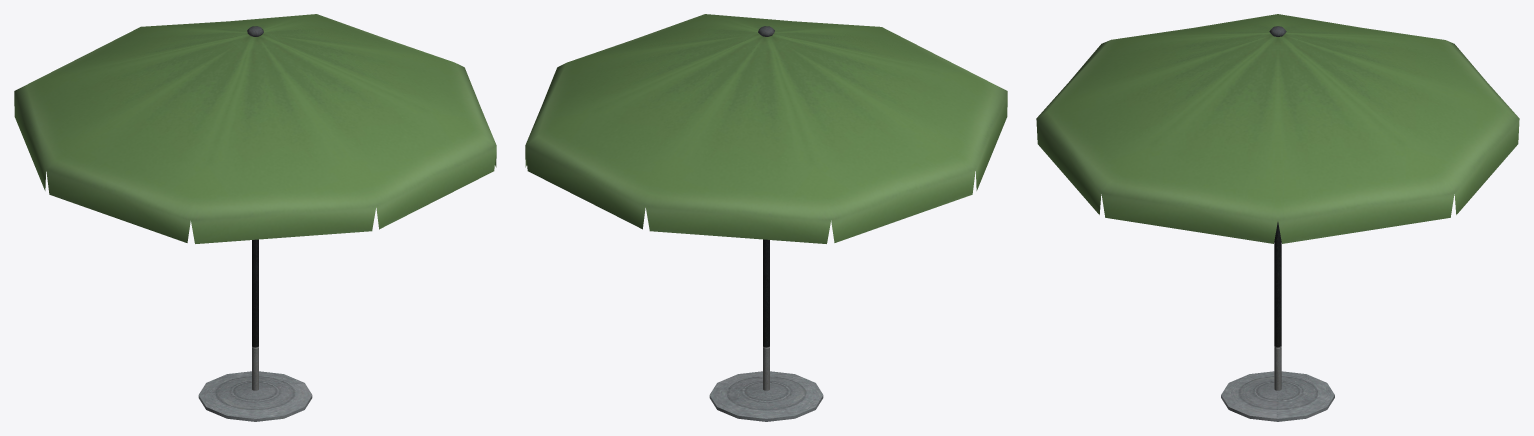
File: Umbrella_02.FBX
The picture shows the model from 3 angles, left to right: view 1: azimuth 30°, elevation 25°; view 2: azimuth 150°, elevation 25°; view 3: azimuth 270°, elevation 25°; orthographic projection.
Visible parts, largest first — view 1: Umbrella_02; view 2: Umbrella_02; view 3: Umbrella_02.
Part boxes in pixels (box(x1,y1,x2,y2)): Umbrella_02: box(14, 14, 496, 421); Umbrella_02: box(525, 14, 1007, 421); Umbrella_02: box(1036, 14, 1519, 421).
Size of the model in its own units: 3.56 by 3.01 by 3.56.
